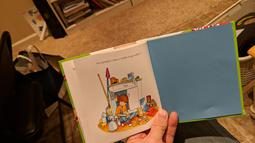text block: (93, 51, 143, 66)
